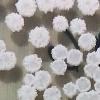white: (26, 25, 51, 49), (3, 11, 27, 33), (72, 0, 100, 17), (20, 53, 42, 74), (76, 31, 97, 52), (33, 70, 53, 92), (14, 0, 38, 18), (13, 85, 40, 100), (69, 17, 88, 37), (0, 51, 18, 72), (65, 48, 84, 67), (51, 15, 69, 34), (49, 59, 69, 76), (35, 0, 56, 15), (50, 43, 68, 60), (62, 80, 78, 99), (76, 75, 92, 94), (42, 85, 62, 100), (51, 0, 75, 12), (81, 63, 100, 78), (21, 73, 39, 88), (83, 51, 100, 65), (0, 38, 13, 55), (74, 91, 93, 100), (88, 79, 100, 93), (89, 67, 100, 81), (89, 89, 100, 100), (91, 45, 100, 56)
